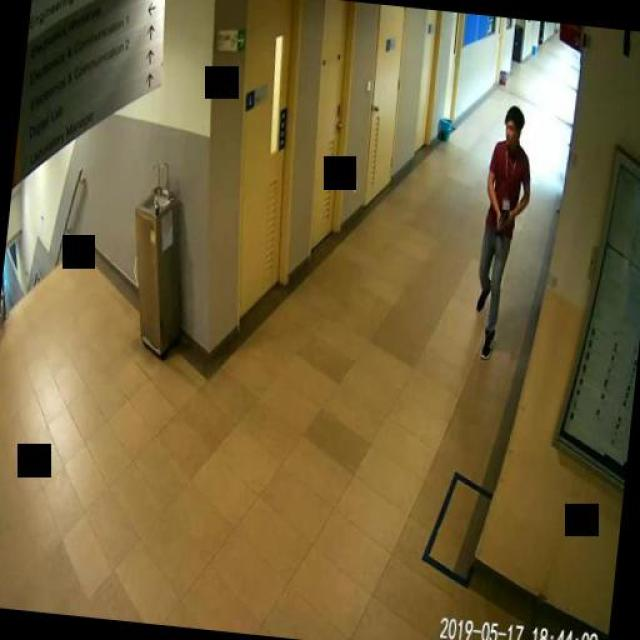gun: (494, 206, 508, 232)
